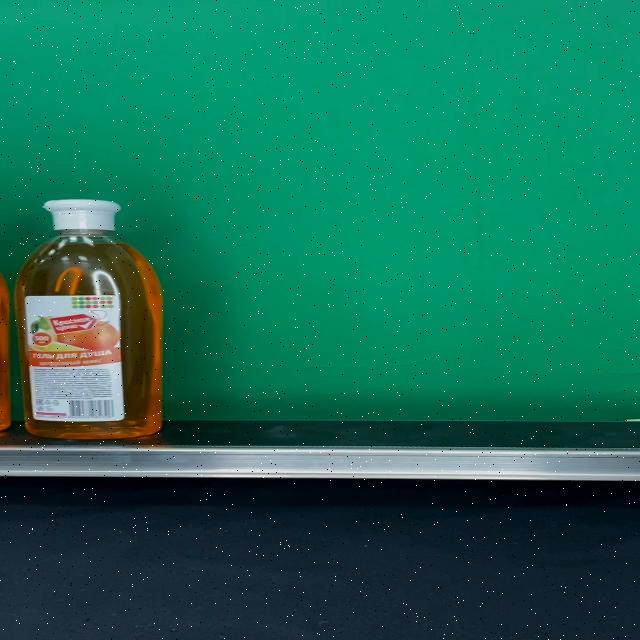Bottle: (17, 199, 165, 439)
Cap: (42, 199, 121, 231)
